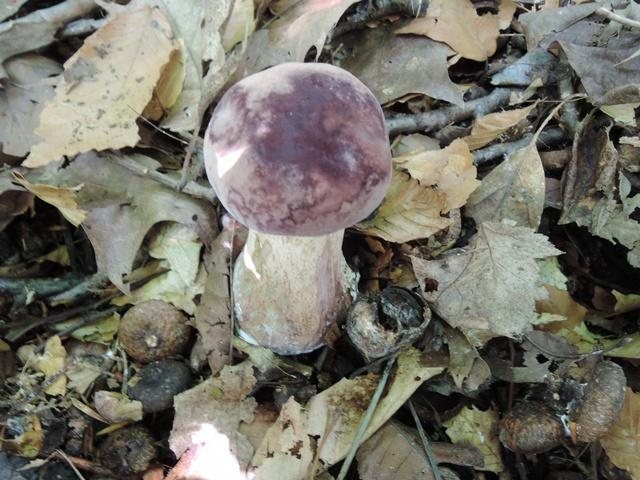poisonous_mushroom: (201, 60, 393, 355)
